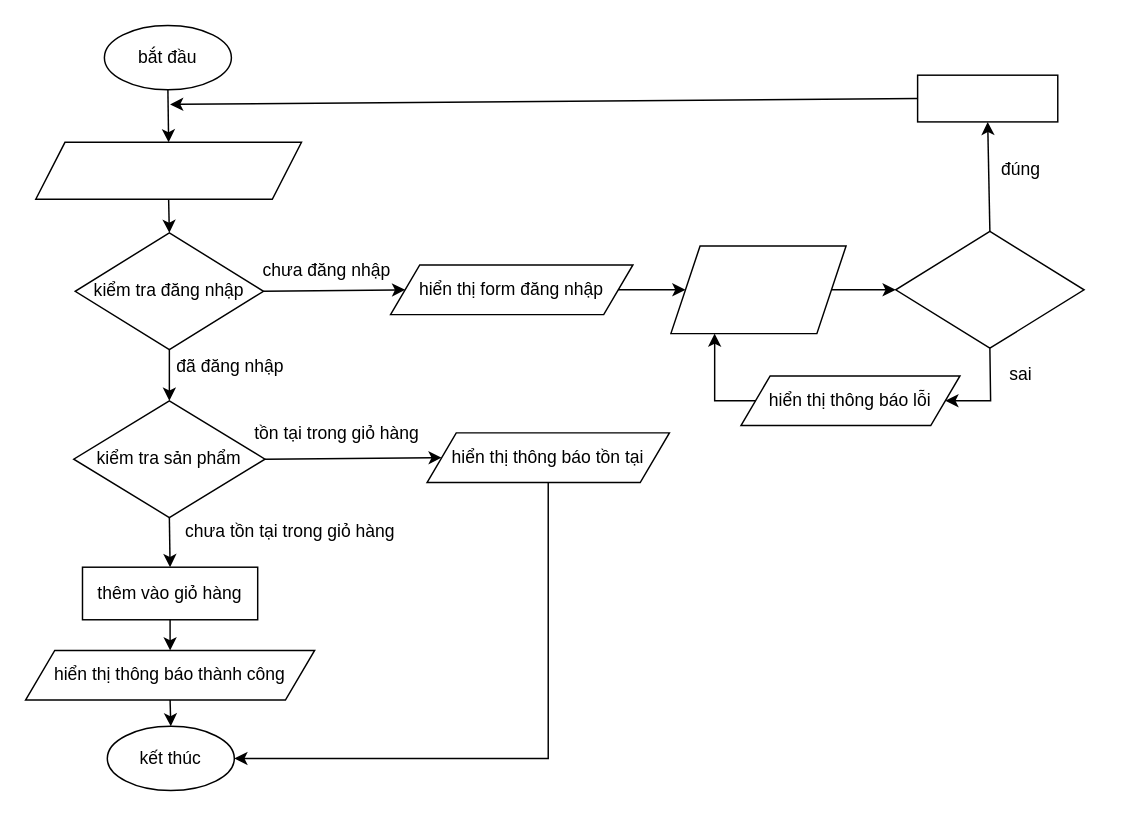
Some shapes in this 1140 by 816 pixel diagram are drawn without their labels. Each missing label, with the centre of its shape:
kiểm tra thông tin: point (989, 289)
nhấn nút thêm vào giỏ hàng: point (167, 170)
nhập thông tin: point (757, 289)
đăng nhập: point (987, 98)
